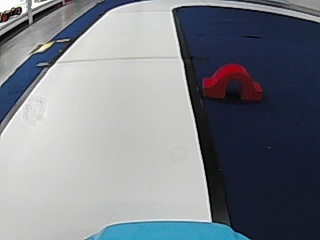bridge: (203, 64, 262, 99)
